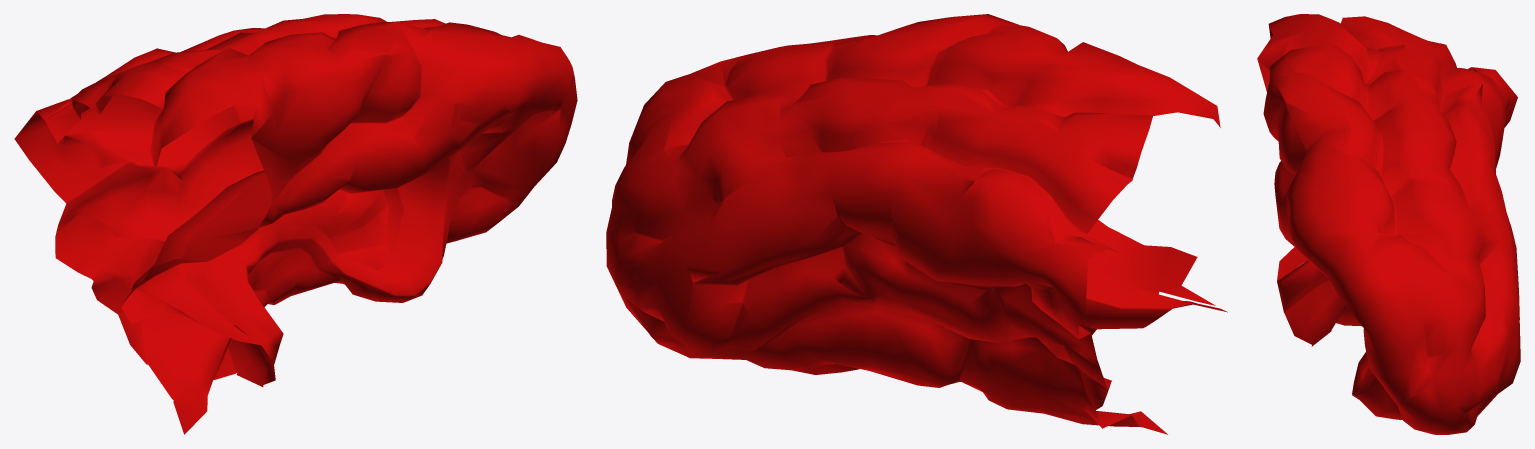
File: region_4.obj
The picture shows the model from 3 angles, left to right: view 1: azimuth 30°, elevation 25°; view 2: azimuth 150°, elevation 25°; view 3: azimuth 270°, elevation 25°; orthographic projection. The views are drawn at different scales.
Parts seen in each view (by area): view 1: ID33; view 2: ID33; view 3: ID33.
Part boxes in pixels (bbox=[...]): ID33: bbox=[14, 14, 577, 434]; ID33: bbox=[606, 14, 1227, 434]; ID33: bbox=[1257, 14, 1520, 434].
Size of the model in its own units: 119 by 79.77 by 58.91.
